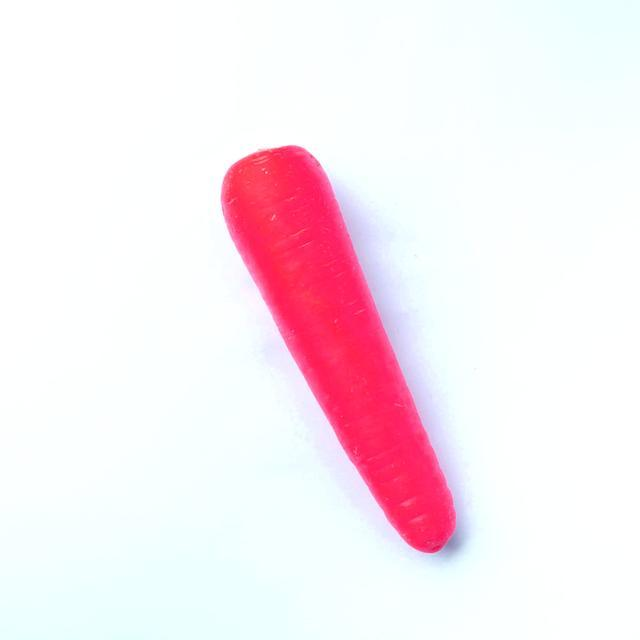carrot: (222, 146, 455, 552)
